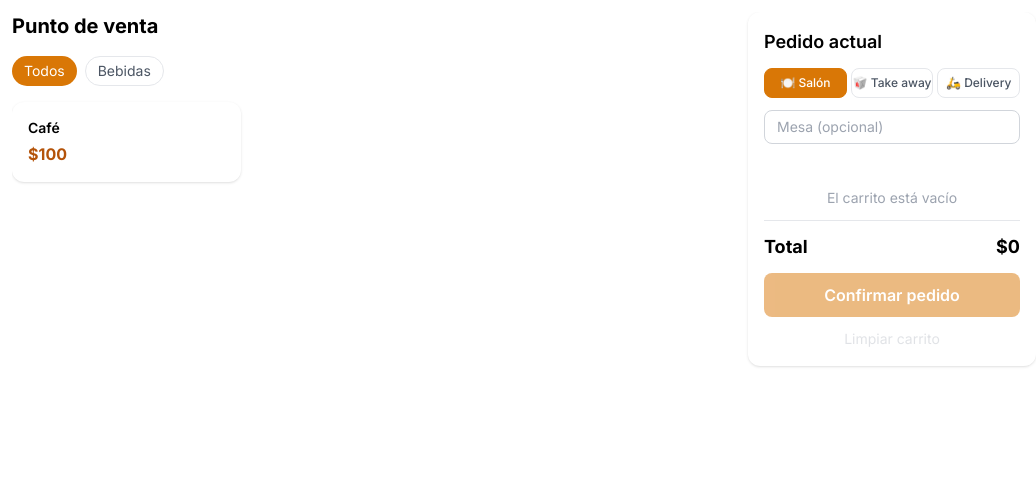
it: POSPage › si el pedido creado trae mpInitPoint, muestra el link para cobrar con Mercado Pago
Click the text "Café": [44, 128] box [28,119,60,136]
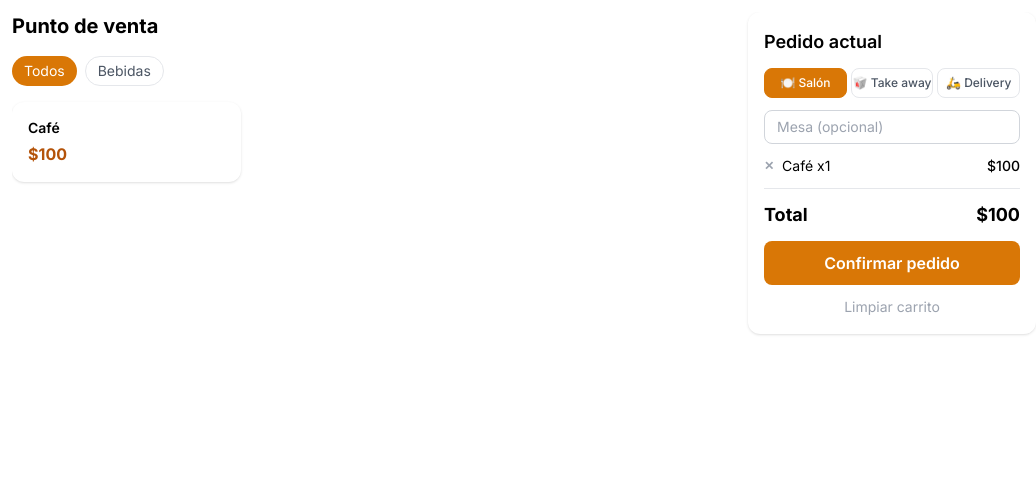
Click the button "Confirmar pedido": [892, 263] box [764,241,1020,285]
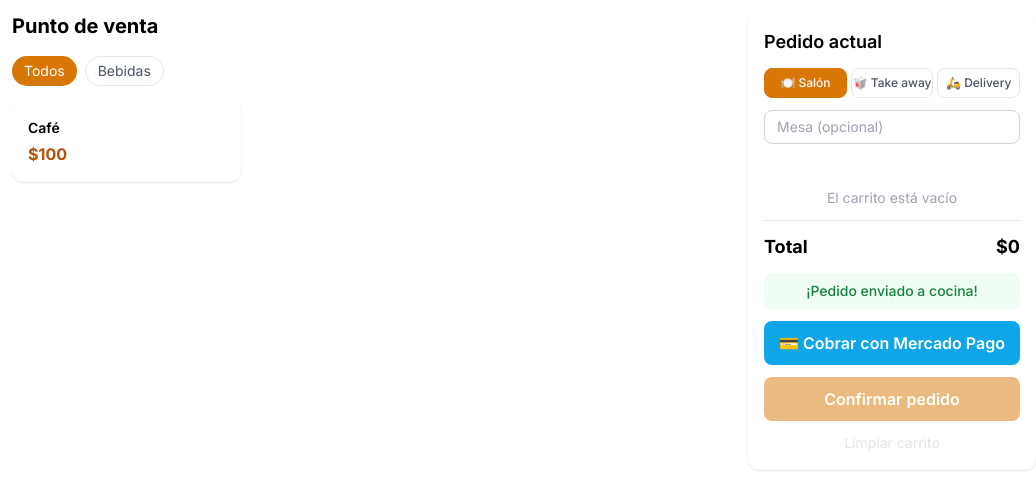
Now the text "¡Pedido enviado a cocina!" is shown, box [764,273,1020,309]
